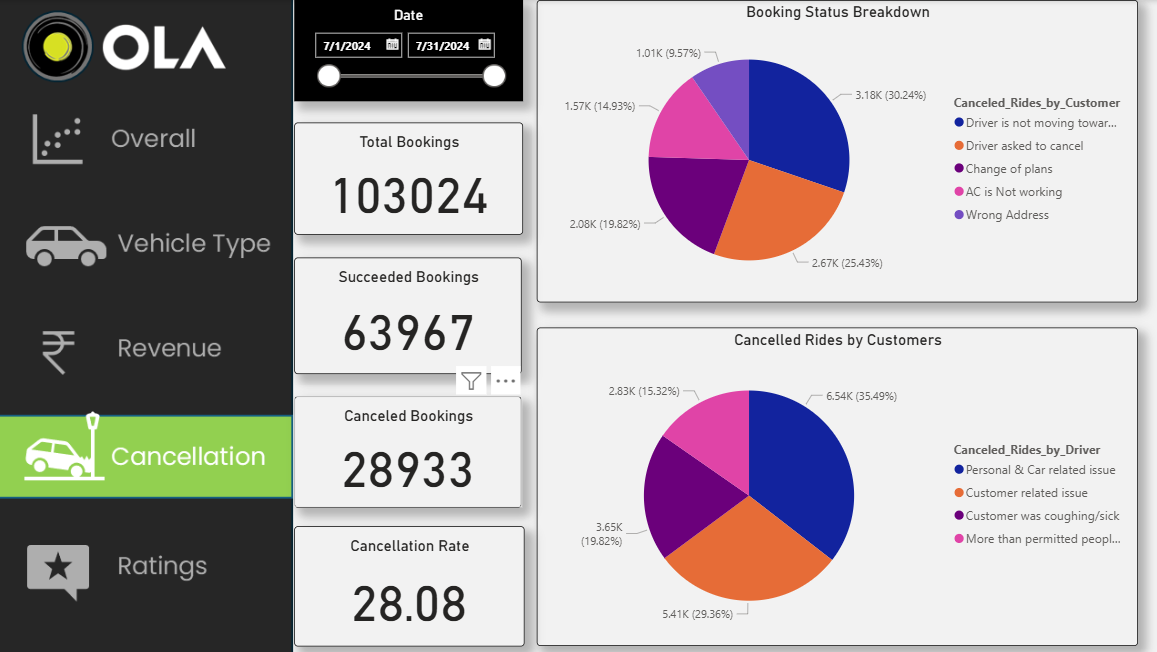

The dashboard page shown, as its layout file describes it:
{"tool":"powerbi","page":{"name":"Cancellation","canvas":[1280,720],"ordinal":3},"visuals":[{"type":"actionButton","box":[0,223.2,324.5,90.5],"z":0},{"type":"actionButton","box":[1.2,339,324.5,90.5],"z":1000},{"type":"actionButton","box":[1.2,457.2,324.5,90.5],"z":2000},{"type":"actionButton","box":[0,577.9,324.5,90.5],"z":3000},{"type":"actionButton","box":[0,111,324.5,90.5],"z":4000},{"type":"pieChart","title":"Booking Status Breakdown","fields":{"Category":["July.Canceled_Rides_by_Customer"],"Y":["CountNonNull(July.Canceled_Rides_by_Customer)"]},"box":[591.4,0,660,332.1],"z":4001},{"type":"pieChart","title":"Cancelled Rides by Customers","fields":{"Y":["CountNonNull(July.Canceled_Rides_by_Driver)"],"Category":["July.Canceled_Rides_by_Driver"]},"box":[591.4,359.5,660,349.9],"z":4002},{"type":"slicer","title":"Date","fields":{"Values":["July.Date"]},"box":[325.2,0,251.1,111.1],"z":4003},{"type":"card","title":"Total Bookings","fields":{"Values":["Count(July.Booking_ID)"]},"box":[325.2,134.5,251.1,123.5],"z":4004},{"type":"card","title":"Succeeded Bookings","fields":{"Values":["Count(July.Booking_ID)"]},"box":[325.2,282.7,249.7,127.6],"z":4005},{"type":"card","title":"Canceled Bookings","fields":{"Values":["Count(July.Booking_ID)"]},"box":[325.2,435,249.7,122.1],"z":4006},{"type":"card","title":"Cancellation Rate","fields":{"Values":["July.CanceledPercentage"]},"box":[325.2,577.7,252.5,131.7],"z":4007}]}

Visuals, with their boxes in screenshot pixels (x1, y1, x2, y2), scaled from the page's 1280x720 canvas onto the 1157x652 screenshot:
actionButton: (left=0, top=202, right=293, bottom=284)
actionButton: (left=1, top=307, right=294, bottom=389)
actionButton: (left=1, top=414, right=294, bottom=496)
actionButton: (left=0, top=523, right=293, bottom=605)
actionButton: (left=0, top=101, right=293, bottom=182)
"Booking Status Breakdown" pieChart: (left=535, top=0, right=1131, bottom=301)
"Cancelled Rides by Customers" pieChart: (left=535, top=326, right=1131, bottom=642)
"Date" slicer: (left=294, top=0, right=521, bottom=101)
"Total Bookings" card: (left=294, top=122, right=521, bottom=234)
"Succeeded Bookings" card: (left=294, top=256, right=520, bottom=372)
"Canceled Bookings" card: (left=294, top=394, right=520, bottom=504)
"Cancellation Rate" card: (left=294, top=523, right=522, bottom=642)
